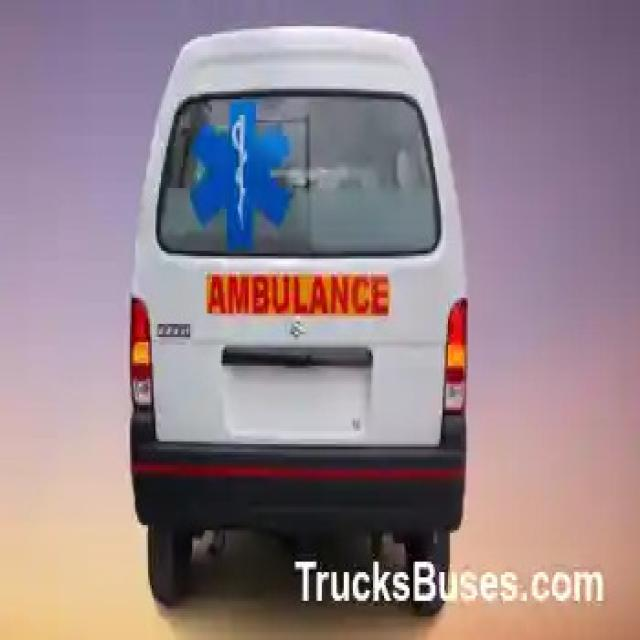ambulance: (107, 20, 500, 606)
